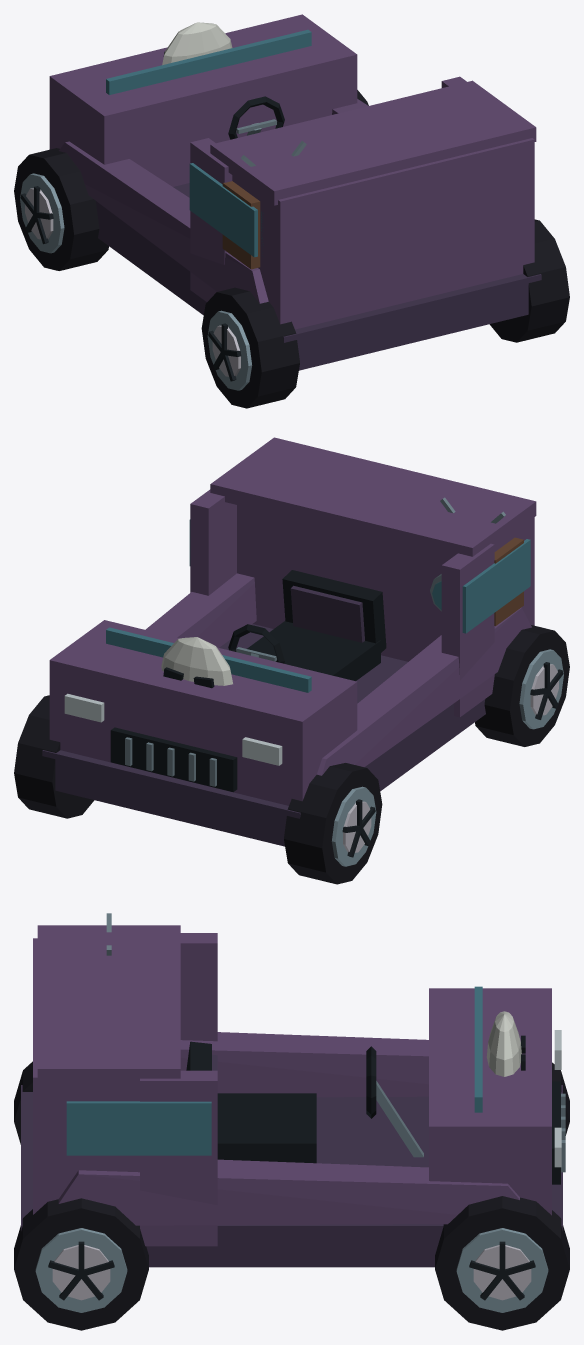
Rendered from kart.glb.
The picture shows the model from 3 angles, top to bottom: view 1: azimuth 30°, elevation 25°; view 2: azimuth 150°, elevation 25°; view 3: azimuth 270°, elevation 25°; orthographic projection. The views are drawn at different scales.
Visible parts, largest first — view 1: identity-van-van-utility-body, wheel-rear-left, wheel-front-left, wheel-rear-right, identity-van-motif-mask, identity-van-motif-television, identity-van-driver-cockpit; view 2: identity-van-van-utility-body, identity-van-driver-cockpit, wheel-front-left, wheel-rear-left, wheel-front-right, identity-van-motif-mask, identity-van-motif-television; view 3: identity-van-van-utility-body, wheel-front-right, wheel-rear-right, identity-van-driver-cockpit, identity-van-motif-mask, wheel-rear-left.
Boxes of the visible parts, x1,y1,x2,y2 form: identity-van-van-utility-body: (49,14,541,370); wheel-rear-left: (201,287,299,408); wheel-front-left: (14,148,108,270); wheel-rear-right: (489,219,569,342); identity-van-motif-mask: (162,22,232,65); identity-van-motif-television: (222,141,306,269); identity-van-driver-cockpit: (228,96,284,139); identity-van-van-utility-body: (42,437,536,846); identity-van-driver-cockpit: (228,570,386,681); wheel-front-left: (284,763,382,884); wheel-rear-left: (475,625,569,746); wheel-front-right: (14,695,94,818); identity-van-motif-mask: (161,637,232,688); identity-van-motif-television: (440,497,523,626); identity-van-van-utility-body: (21,925,565,1267); wheel-front-right: (435,1196,569,1330); wheel-rear-right: (14,1198,148,1330); identity-van-driver-cockpit: (186,1041,423,1163); identity-van-motif-mask: (486,1011,525,1076); wheel-rear-left: (14,1061,32,1144).
Bounding box in the file's own units: 2.13 × 1.46 × 2.8.
